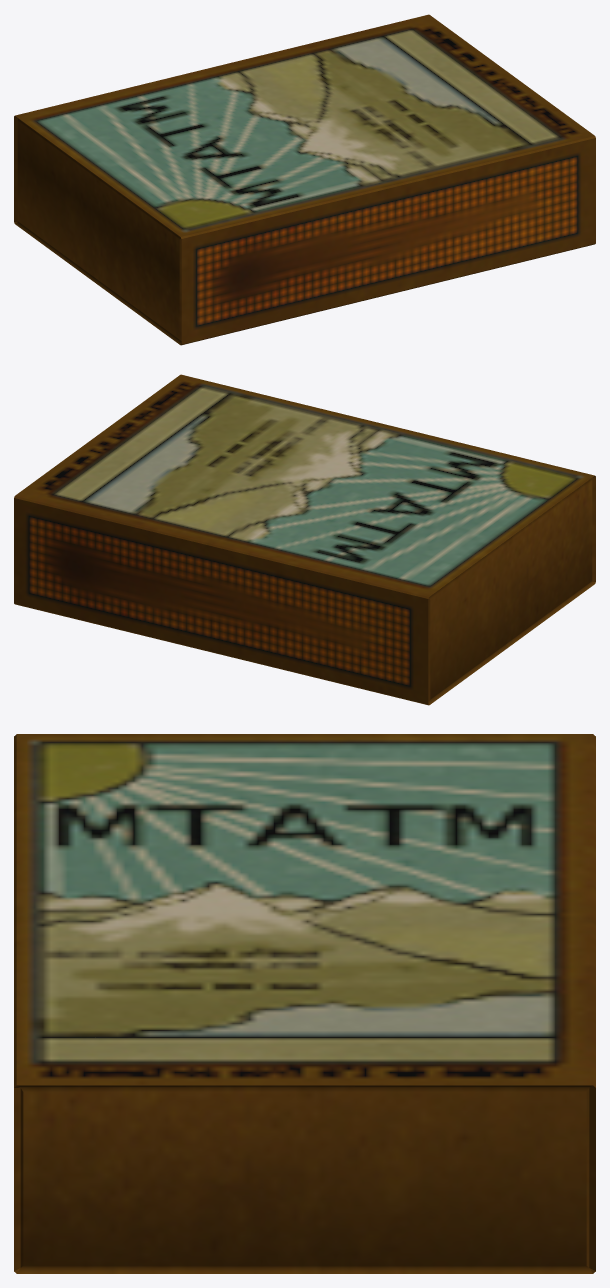
File: misc_matchbox.dae
3 renders of one model, top to bottom at view 1: azimuth 30°, elevation 25°; view 2: azimuth 150°, elevation 25°; view 3: azimuth 270°, elevation 25°, orthographic. The views are drawn at different scales.
Parts seen in each view (by area): view 1: matchbox; view 2: matchbox; view 3: matchbox.
Boxes of the visible parts, x1,y1,x2,y2 form: matchbox: [14, 14, 595, 345]; matchbox: [14, 374, 595, 705]; matchbox: [14, 734, 595, 1273].
Size of what is drawn, in the model's own units: 0.1 by 0.025 by 0.07.
Materials: 1 (1 with a texture image).
